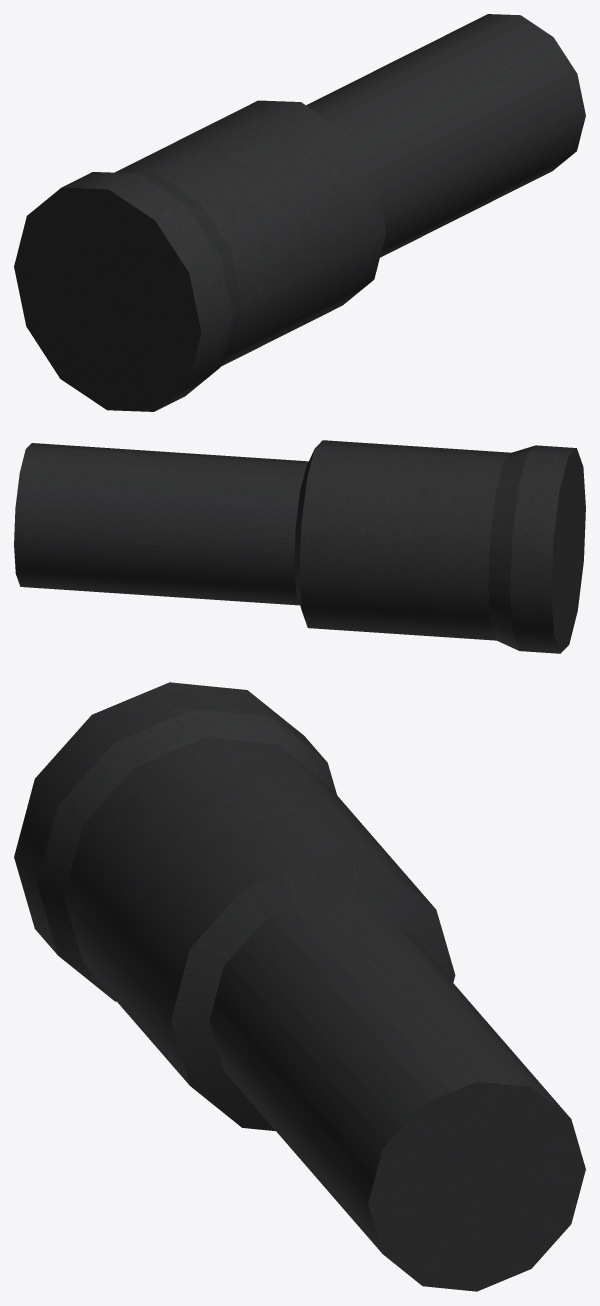
File: Plunger_Assembly.dae
The picture shows the model from 3 angles, top to bottom: view 1: azimuth 30°, elevation 25°; view 2: azimuth 150°, elevation 25°; view 3: azimuth 270°, elevation 25°; orthographic projection. The views are drawn at different scales.
Parts seen in each view (by area): view 1: Plunger_Assembly; view 2: Plunger_Assembly; view 3: Plunger_Assembly.
Boxes of the visible parts, x1,y1,x2,y2 form: Plunger_Assembly: (14,14,585,411); Plunger_Assembly: (14,440,585,653); Plunger_Assembly: (14,682,585,1291).
Size of the model in its own units: 0.0387 by 0.0239 by 0.0139.
Materials: 1 (1 with a texture image).
